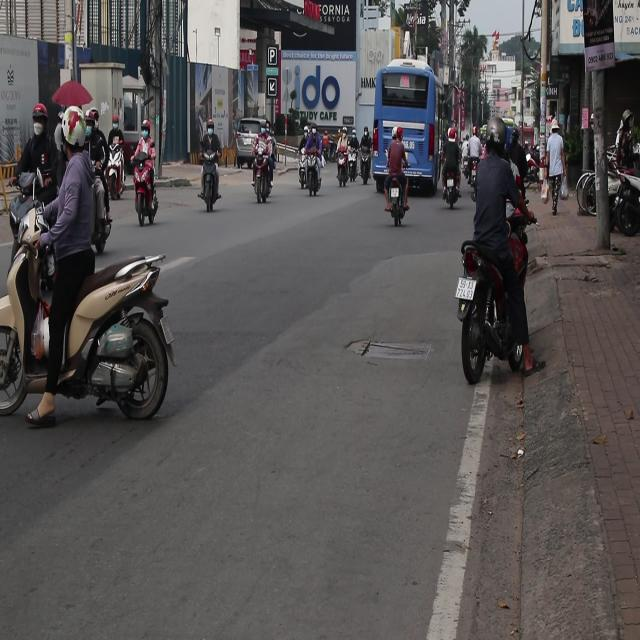bus: (372, 61, 442, 189)
car: (234, 118, 268, 145)
motorbike: (19, 238, 183, 423), (450, 245, 550, 371), (126, 156, 168, 224), (195, 147, 221, 217), (388, 175, 409, 228), (108, 138, 125, 202), (254, 152, 272, 211), (336, 150, 351, 196), (296, 146, 310, 191), (444, 178, 462, 209), (348, 145, 358, 185), (361, 139, 369, 184), (307, 158, 315, 199)
